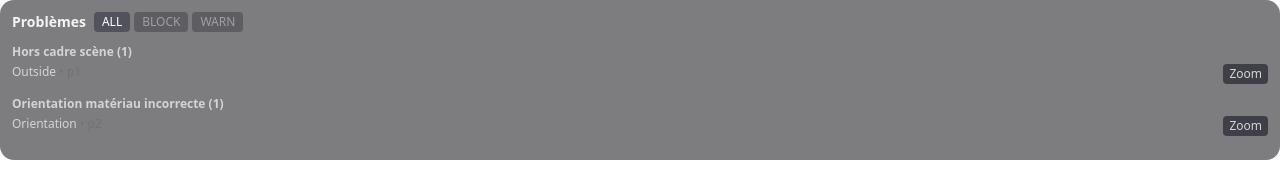
ProblemsPanel › filters BLOCK/WARN correctly
expect the element with test id "group-outside_scene" is shown: met, box [12,44,1268,84]
expect the element with test id "group-material_orientation_mismatch" is shown: met, box [12,96,1268,136]
# Click BLOCK filter
Click the tab with test id "filter-block" at (161, 22), box [134,12,188,32]
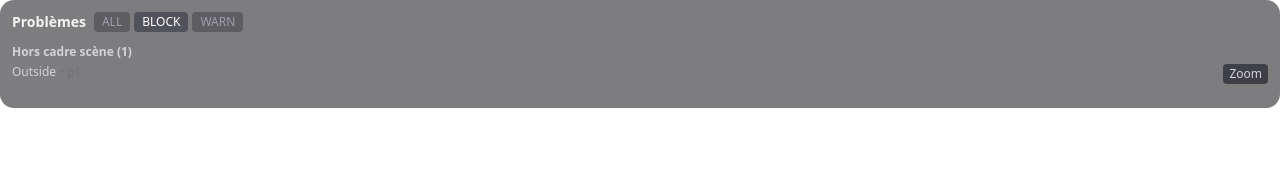
expect the element with test id "group-outside_scene" is shown: met, box [12,44,1268,84]
expect the element with test id "group-material_orientation_mismatch" is gone: met
